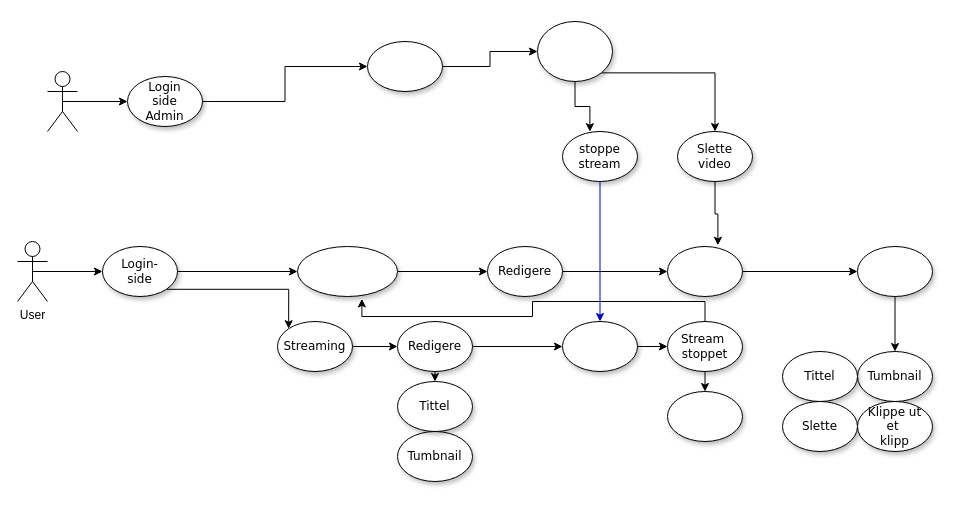
The diagram is 956 pixels wide and 506 high, and some of its shapes have lost their labels. Each missing label, with the centre of its shape:
Admin: the point at 62,101
Ikke opplastet stream: the point at 705,417
Kontrollere platformen: the point at 405,67
Moderere innhold: the point at 575,52
Redigering: the point at 895,273
Stream Startet: the point at 601,347
Video opplastning: the point at 348,273
Video utgitt: the point at 705,273
